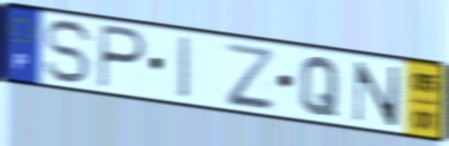I: (177, 33, 193, 102)
N: (351, 59, 402, 129)
P: (95, 21, 150, 93)
Q: (297, 54, 342, 119)
S: (42, 17, 98, 87)
Z: (222, 39, 278, 110)
